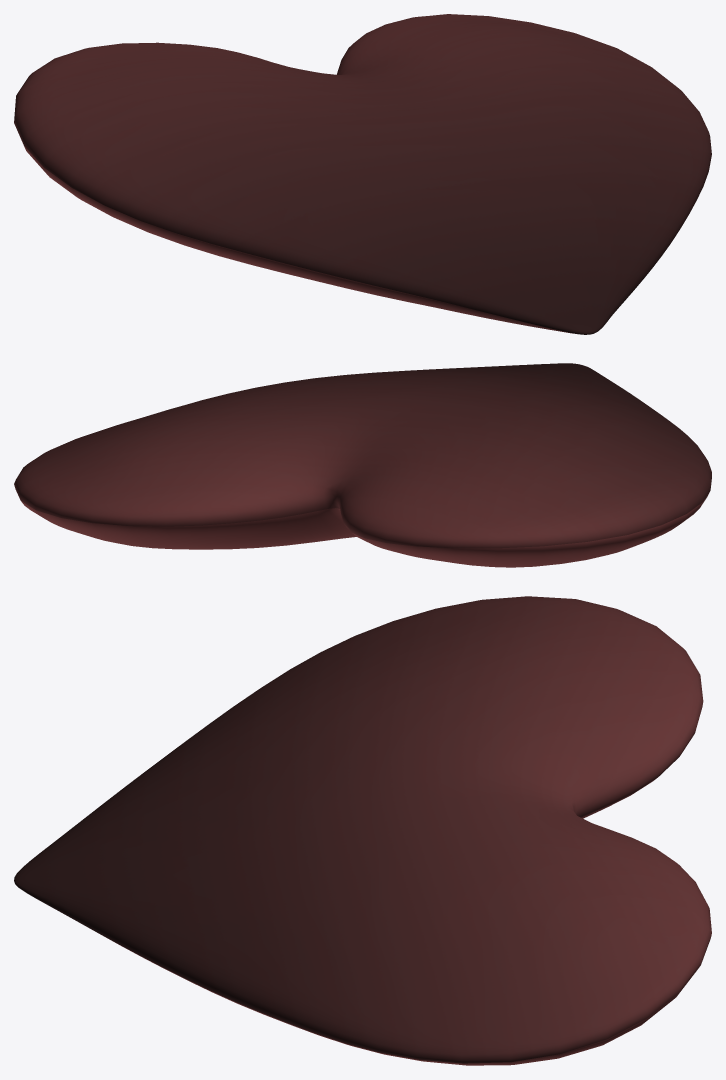
File: heart.glb
3 renders of one model, top to bottom at view 1: azimuth 30°, elevation 25°; view 2: azimuth 150°, elevation 25°; view 3: azimuth 270°, elevation 25°, orthographic. The views are drawn at different scales.
Parts seen in each view (by area): view 1: cc_t_heart; view 2: cc_t_heart; view 3: cc_t_heart.
Part boxes in pixels (x1,y1,x2,y2): cc_t_heart: [14, 14, 711, 334]; cc_t_heart: [14, 363, 711, 567]; cc_t_heart: [14, 596, 711, 1065].
Size of the model in its own units: 0.1249 by 0.0325 by 0.1071.
Materials: 1 (1 with a texture image).
